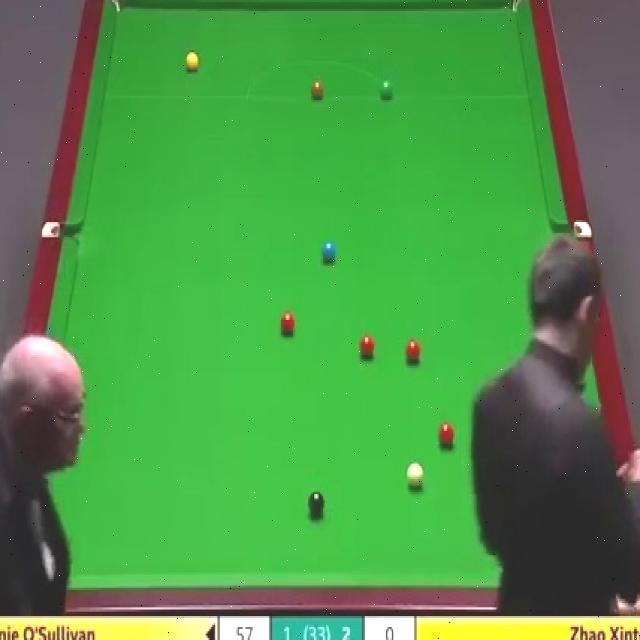black-ball: (308, 491, 326, 516)
blue-ball: (322, 237, 336, 265)
brown-ball: (310, 79, 326, 99)
green-ball: (378, 76, 394, 100)
red-ball: (437, 422, 455, 447), (359, 333, 375, 361), (406, 338, 421, 366), (280, 310, 294, 333)
white-ball: (403, 461, 422, 494)
yellow-ball: (186, 53, 199, 73)
